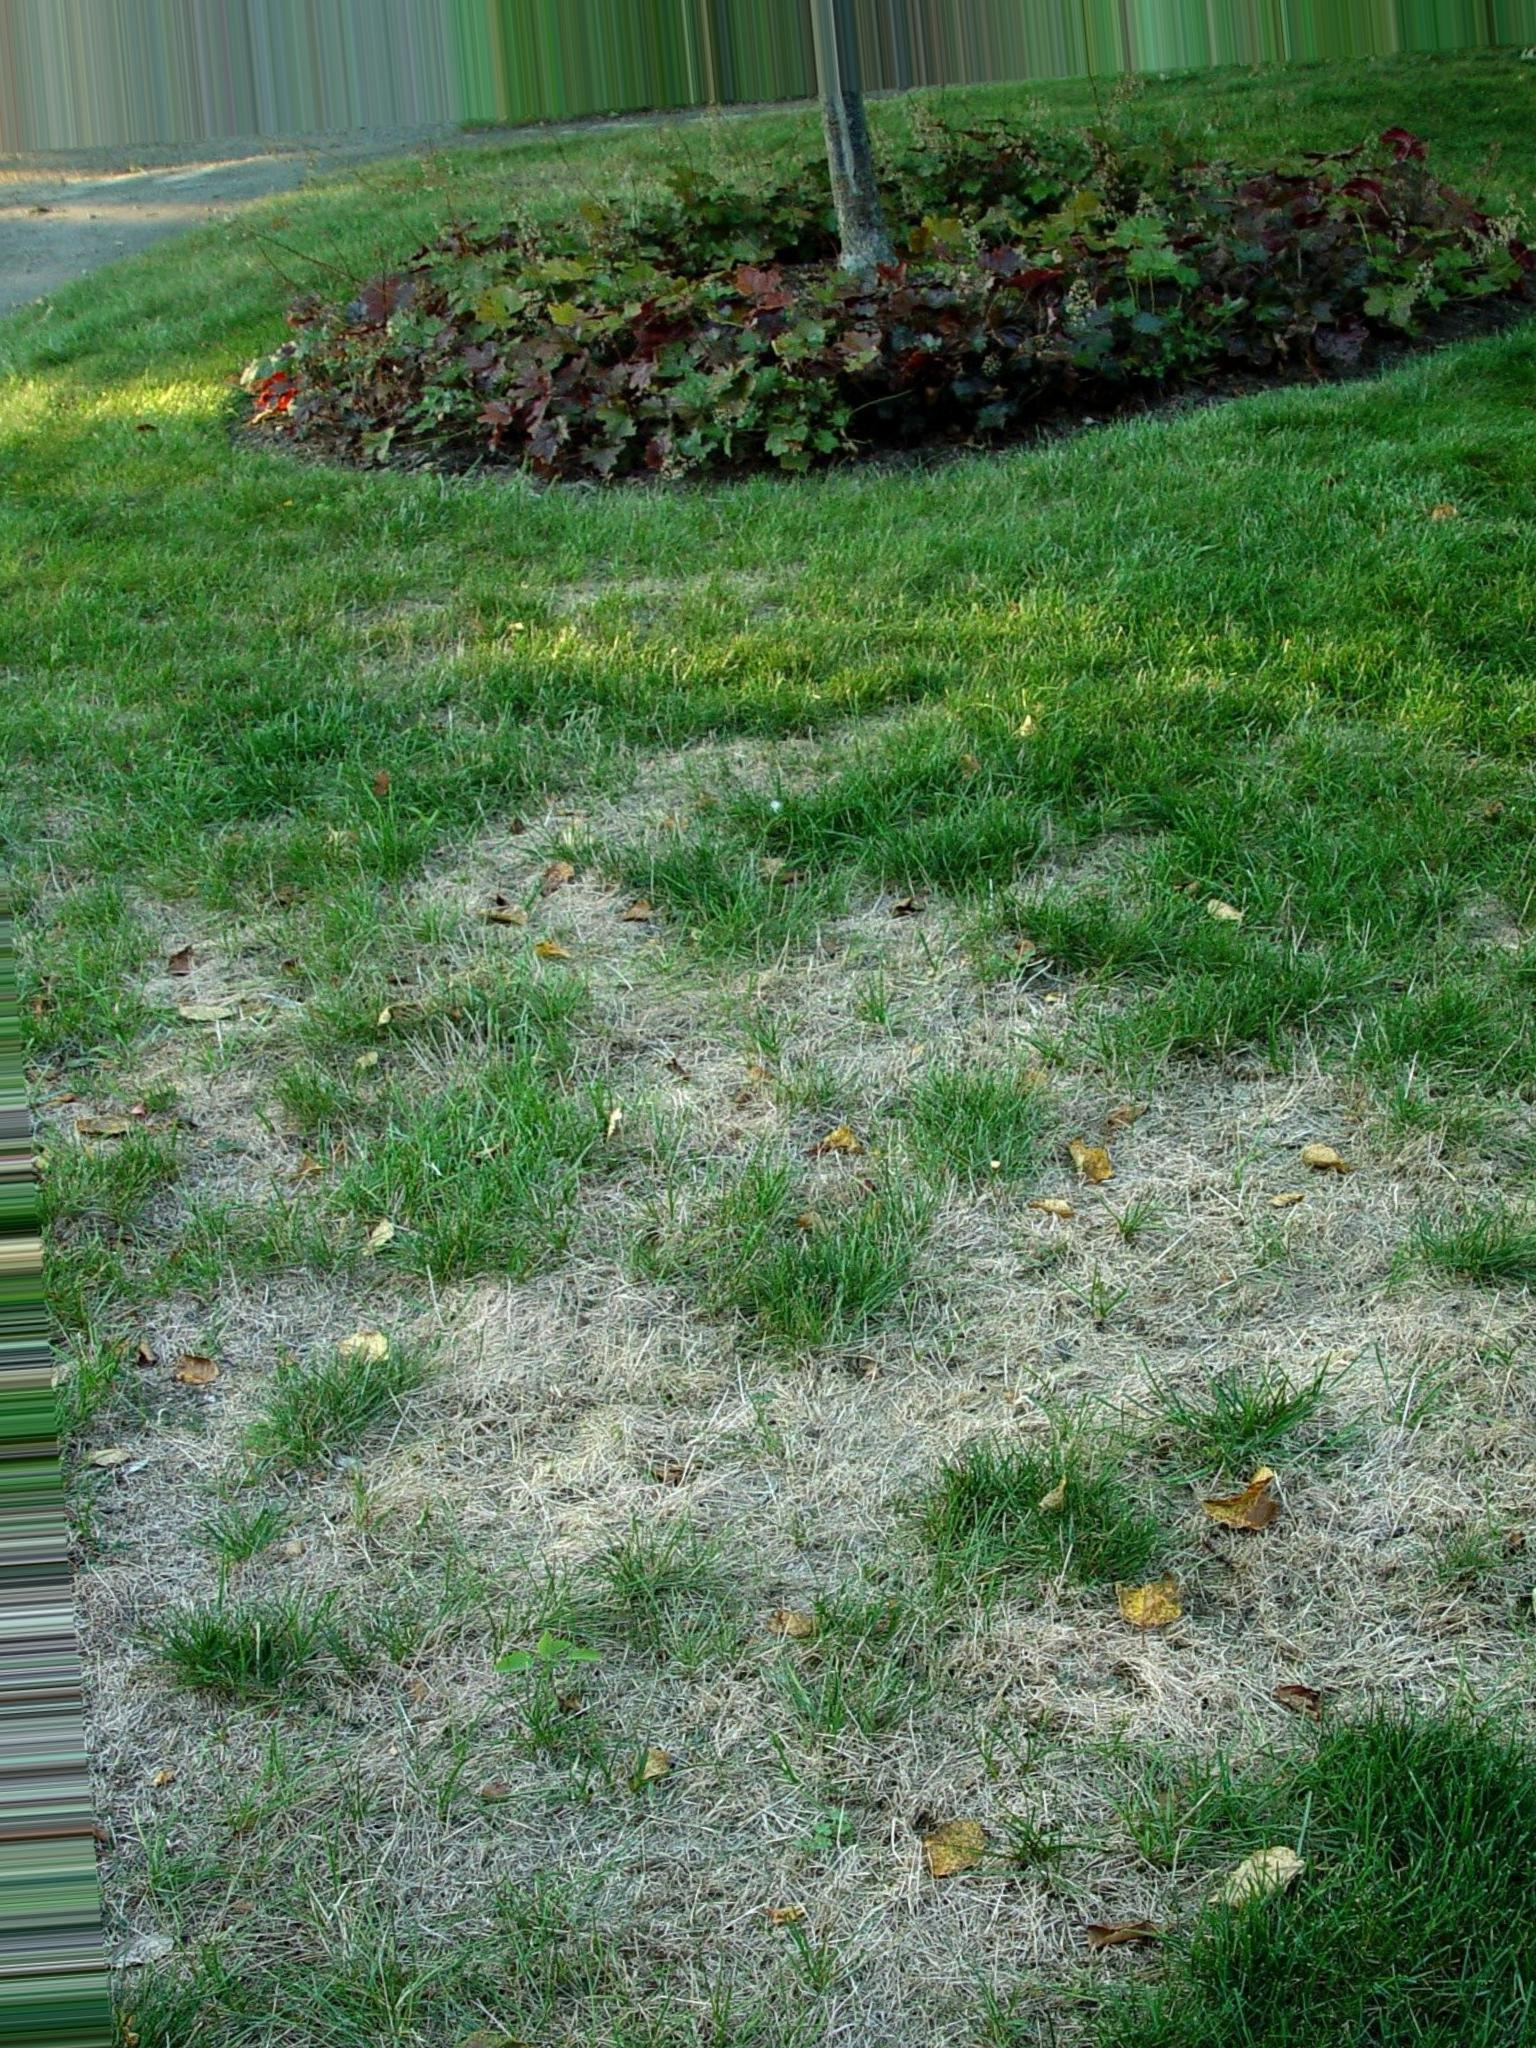patch: (655, 1634, 1220, 1906), (444, 1298, 895, 1551), (1081, 1093, 1442, 1397), (647, 942, 1033, 1132)
